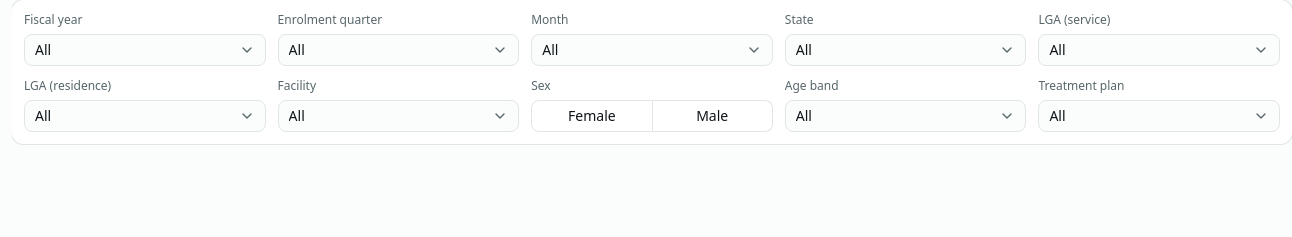
Scenario: FilterBar › selects sex with a toggle, where none pressed means both
This screenshot has width=1292, height=237.
Expected: the element named "Sex" is shown, [531,100,773,132]
Click the button "Female". click: (592, 116)
box: [531,100,652,132]
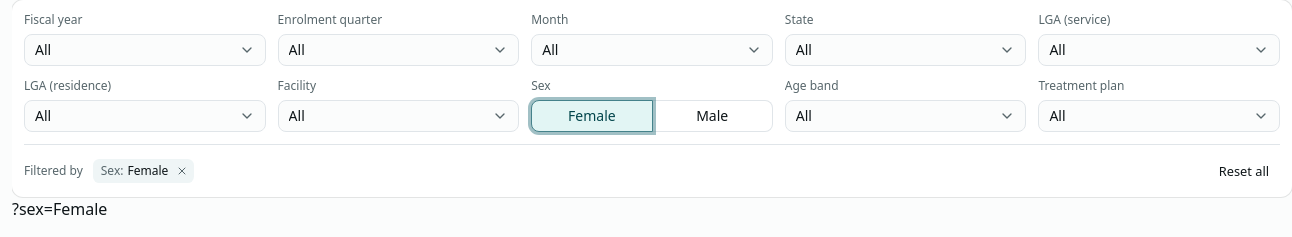
Result: the text with test id "query" reads "?sex=Female" at [12,198,107,220]
